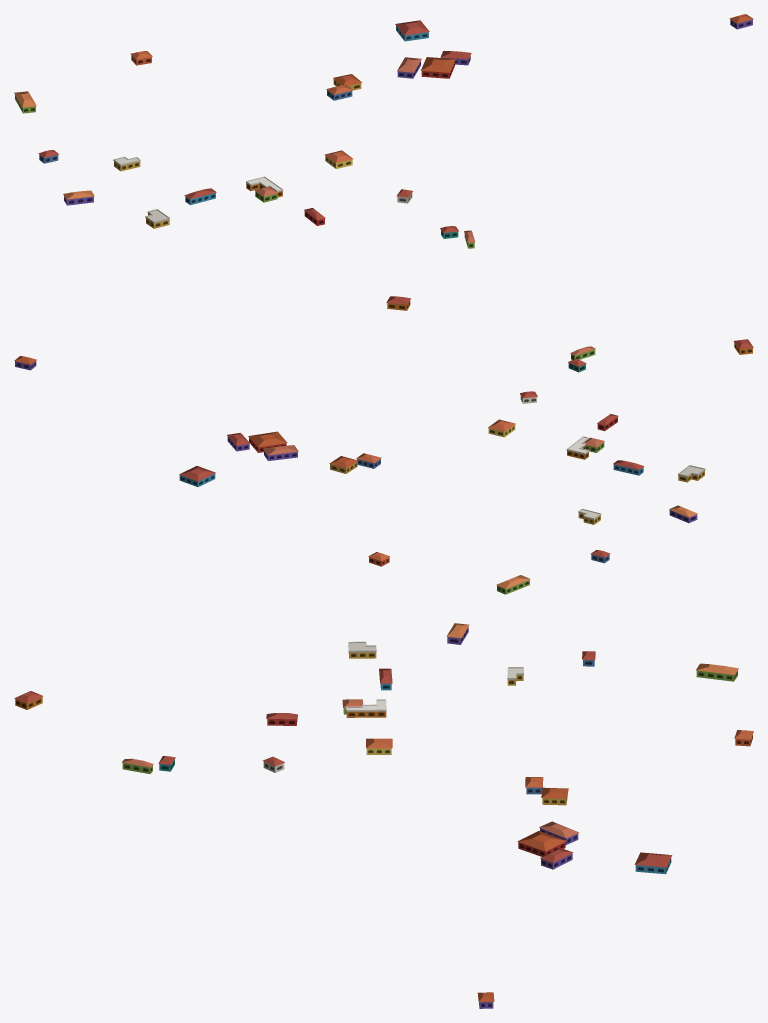
Rendered from msb_noord_m13_m7.glb.
3 views of the same model, one above another, from view 1: azimuth 30°, elevation 25°; view 2: azimuth 150°, elevation 25°; view 3: azimuth 270°, elevation 25° (orthographic). The views are drawn at different scales.
Visible parts, largest first — view 1: msb_noord_m13_m7_lod0; view 2: msb_noord_m13_m7_lod0; view 3: msb_noord_m13_m7_lod0.
Boxes of the visible parts, x1,y1,x2,y2 form: msb_noord_m13_m7_lod0: (14, 14, 753, 310); msb_noord_m13_m7_lod0: (14, 339, 753, 594); msb_noord_m13_m7_lod0: (14, 623, 753, 1008).
Size of what is drawn, in the model's own units: 406 by 14.69 by 333.
Materials: 3 (1 with a texture image).
